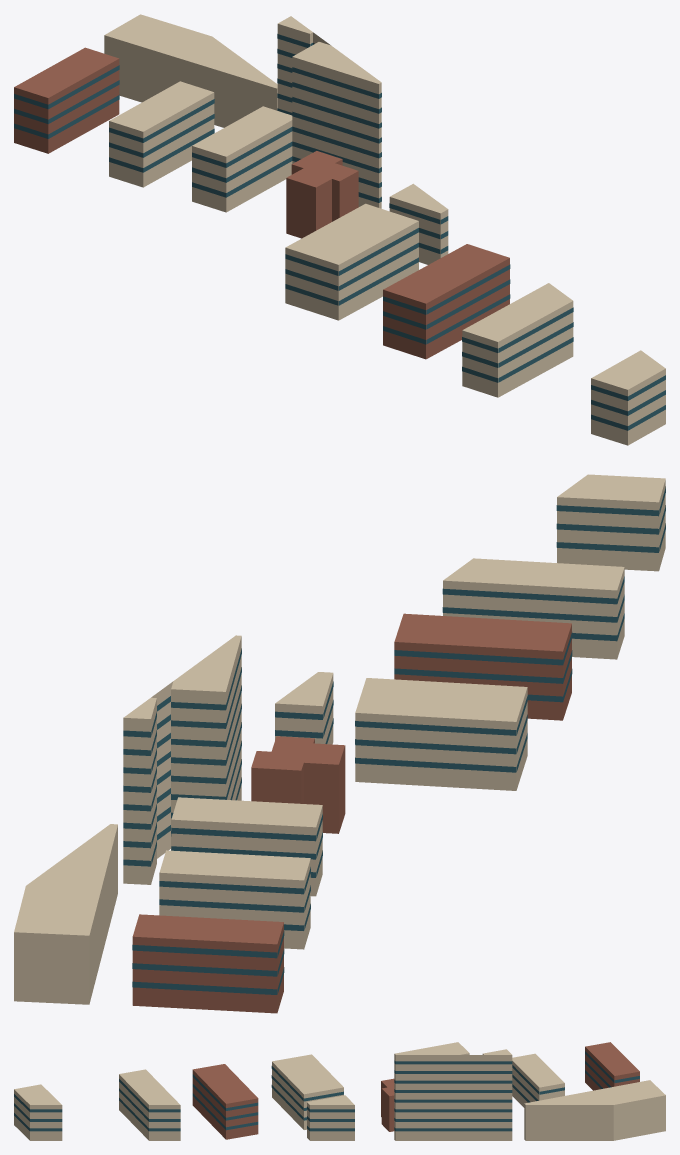
Rendered from city_10_-1.glb.
3 views of the same model, one above another, from view 1: azimuth 30°, elevation 25°; view 2: azimuth 150°, elevation 25°; view 3: azimuth 270°, elevation 25° (orthographic). The views are drawn at different scales.
Parts seen in each view (by area): view 1: city_10_-1; view 2: city_10_-1; view 3: city_10_-1.
Boxes of the visible parts, <box> form: city_10_-1: <box>14,14,665,445</box>; city_10_-1: <box>14,474,665,1013</box>; city_10_-1: <box>14,1042,665,1140</box>.
Bounding box in the file's own units: 56.54 × 36 × 247.
